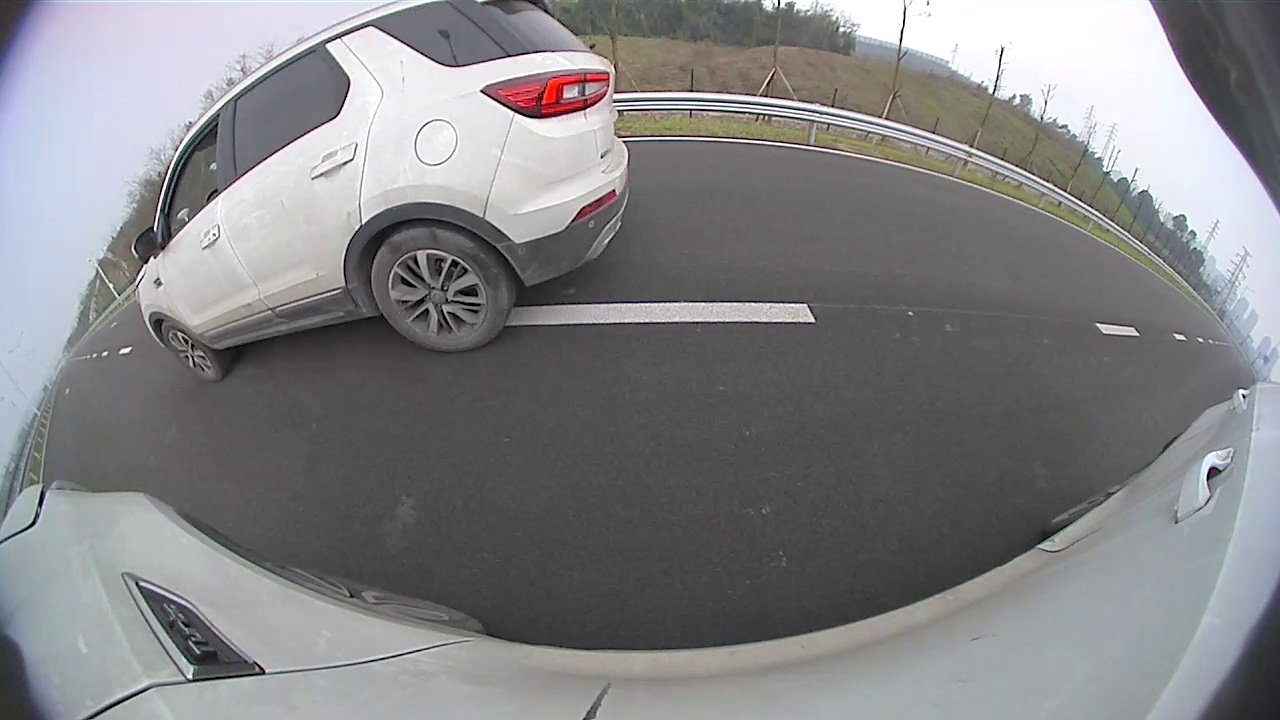car: (133, 1, 628, 383)
front: (148, 315, 231, 391)
rear: (363, 217, 524, 365)
